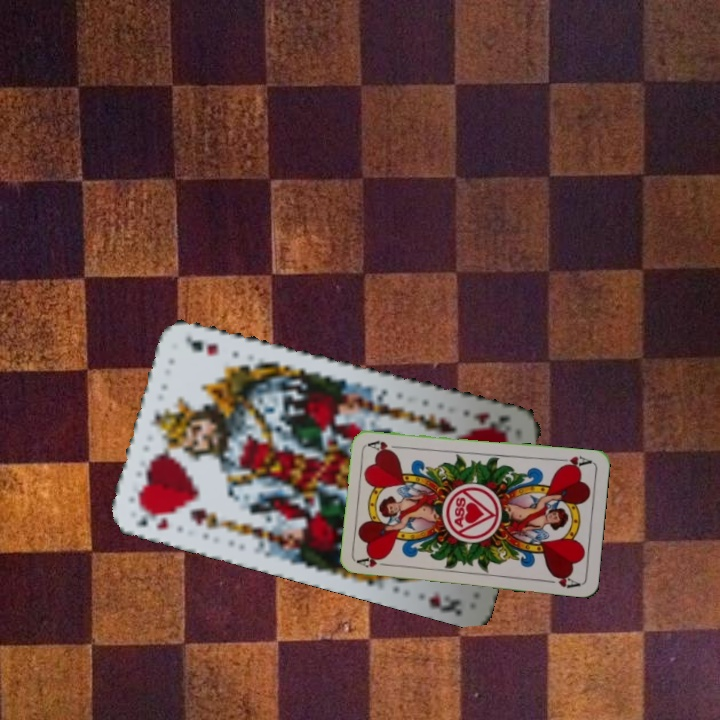HA: (553, 451, 594, 471), (354, 553, 395, 570)
HK: (133, 502, 175, 533), (470, 408, 513, 432)
